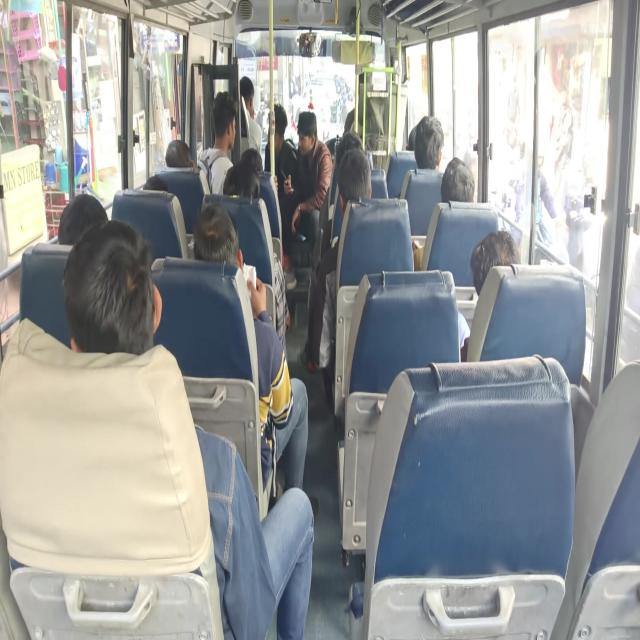person: (0, 216, 315, 638), (192, 202, 310, 506), (300, 147, 372, 372), (280, 110, 332, 288), (457, 230, 521, 360), (412, 156, 475, 270), (264, 102, 300, 286), (512, 140, 557, 248), (197, 90, 237, 194), (264, 102, 299, 199), (470, 229, 520, 296), (57, 192, 108, 245), (239, 75, 262, 154), (413, 115, 444, 169), (440, 156, 475, 202), (165, 138, 194, 168)
